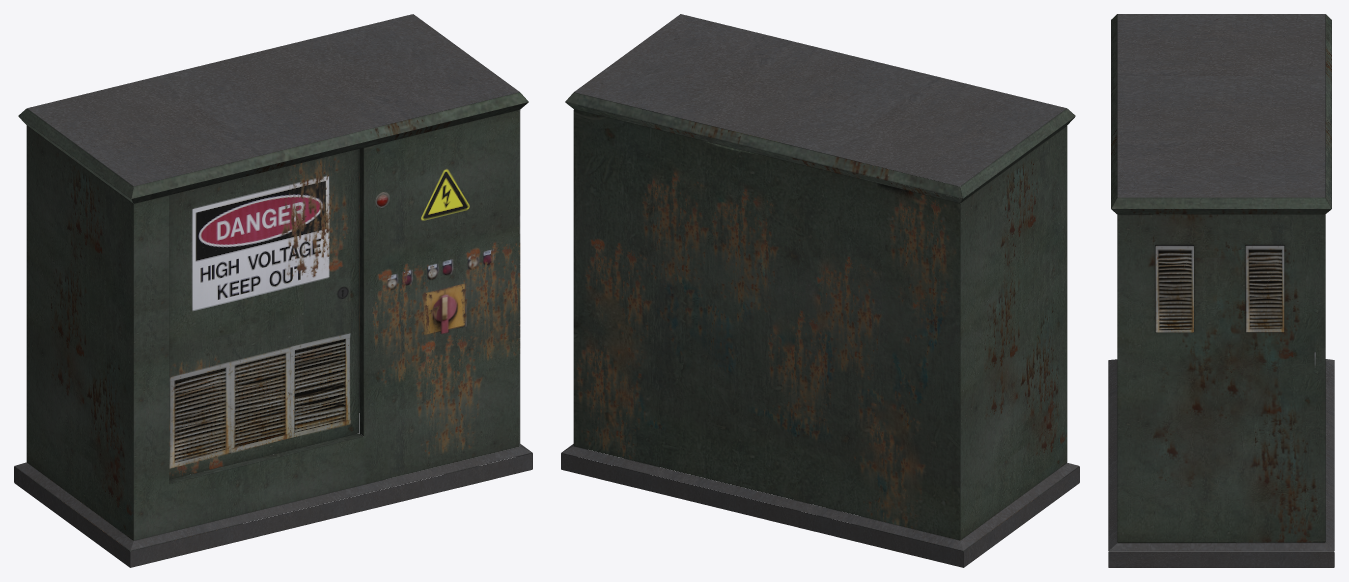
Rendered from ElectricBox.fbx.
3 views of the same model, side by side, from view 1: azimuth 30°, elevation 25°; view 2: azimuth 150°, elevation 25°; view 3: azimuth 270°, elevation 25° (orthographic). The views are drawn at different scales.
Visible parts, largest first — view 1: Box003; view 2: Box003; view 3: Box003.
Part boxes in pixels (<box>): Box003: <box>14,14,532,567</box>; Box003: <box>561,14,1079,567</box>; Box003: <box>1108,14,1334,567</box>.
Size of the model in its own units: 50 by 44.62 by 25.
Materials: 1 (1 with a texture image).
